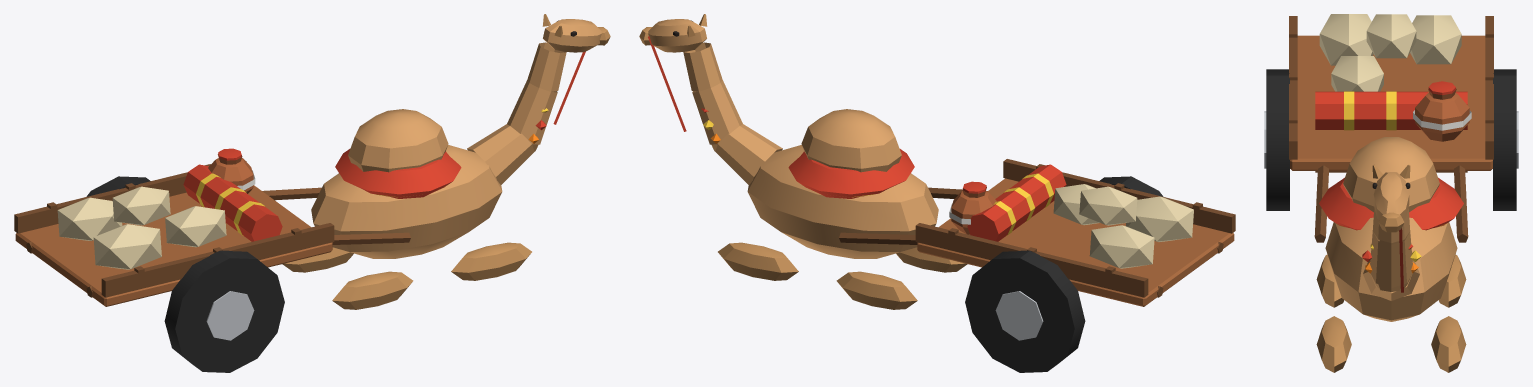
Rendered from camel_cart.glb.
The picture shows the model from 3 angles, left to right: view 1: azimuth 30°, elevation 25°; view 2: azimuth 150°, elevation 25°; view 3: azimuth 270°, elevation 25°; orthographic projection. The views are drawn at different scales.
Parts seen in each view (by area): view 1: camel_cart; view 2: camel_cart; view 3: camel_cart.
Boxes of the visible parts, <box> form: camel_cart: <box>14,14,610,372</box>; camel_cart: <box>639,14,1235,372</box>; camel_cart: <box>1264,14,1518,372</box>.
Bounding box in the file's own units: 4.2 × 1.61 × 1.5.
Materials: 1 (1 with a texture image).
